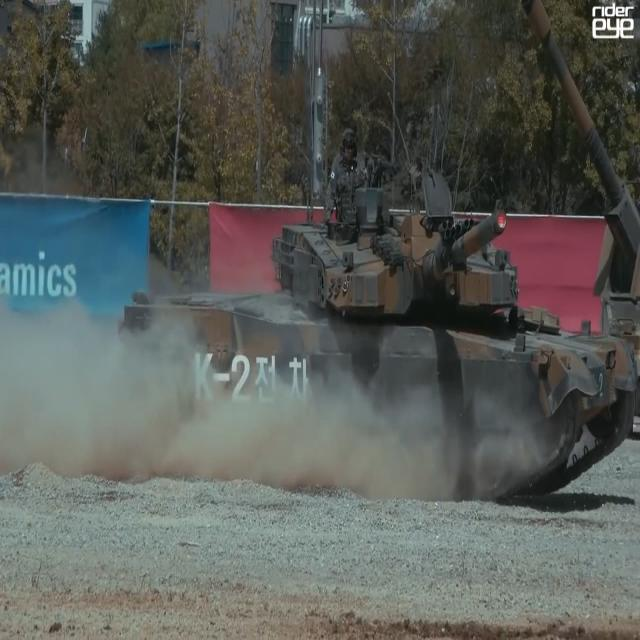korea tank: (120, 128, 640, 504)
